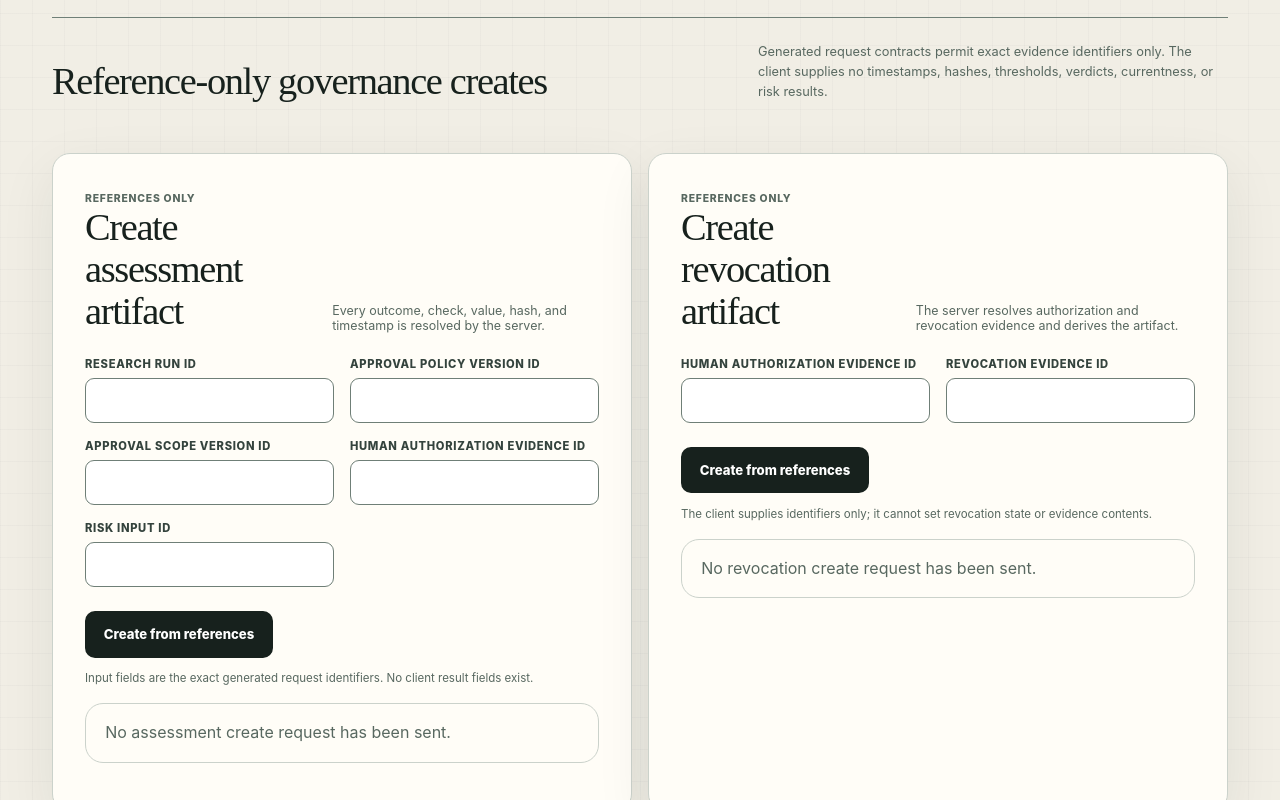
Test: risk and compliance workspace › announces validation revocation-create failures without inventing a result
(page scrolled)
Type "50000000-0000-4000-8000-000000000002" into the field labelled "Human authorization evidence ID" below "Create revocation artifact" at point(806, 400), box top-left (681, 378), bottom-right (930, 423)
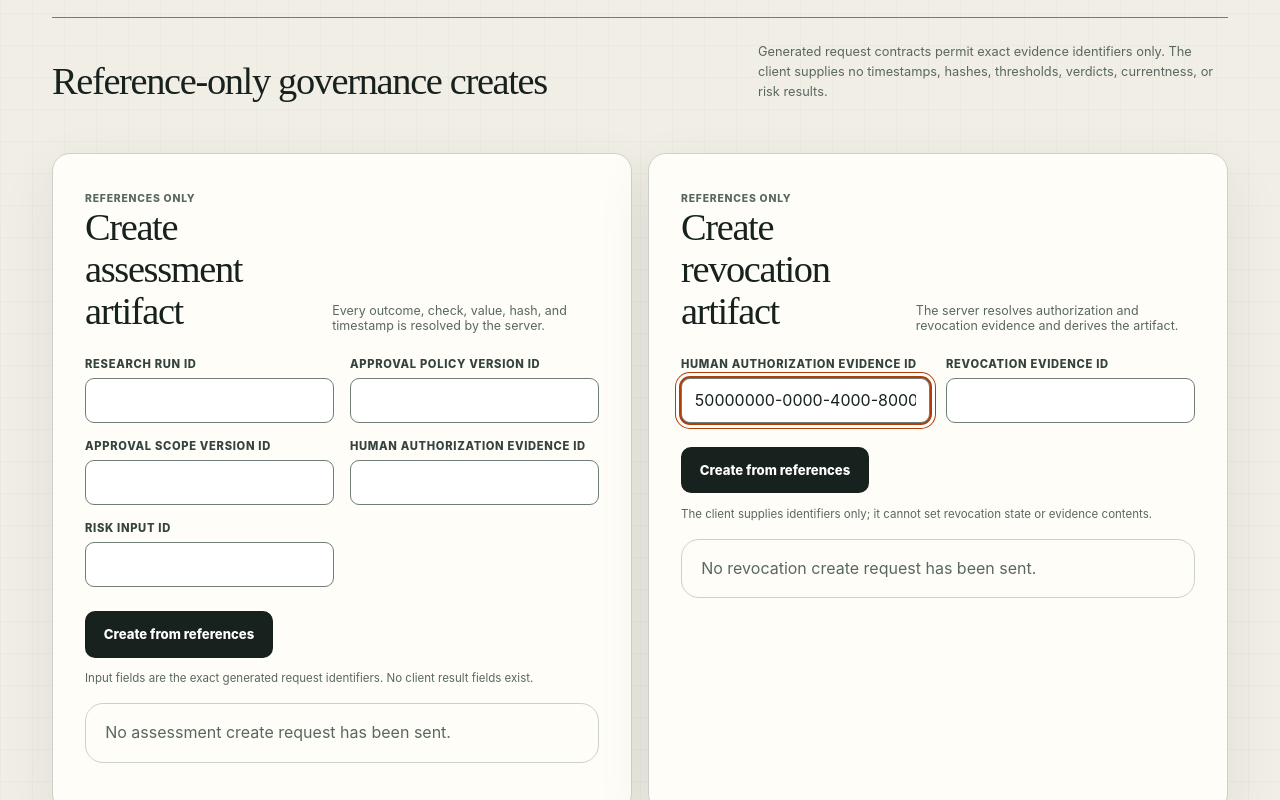
Type "80000000-0000-4000-8000-000000000001" into the field labelled "Revocation evidence ID" at point(1070, 400), box top-left (946, 378), bottom-right (1195, 423)
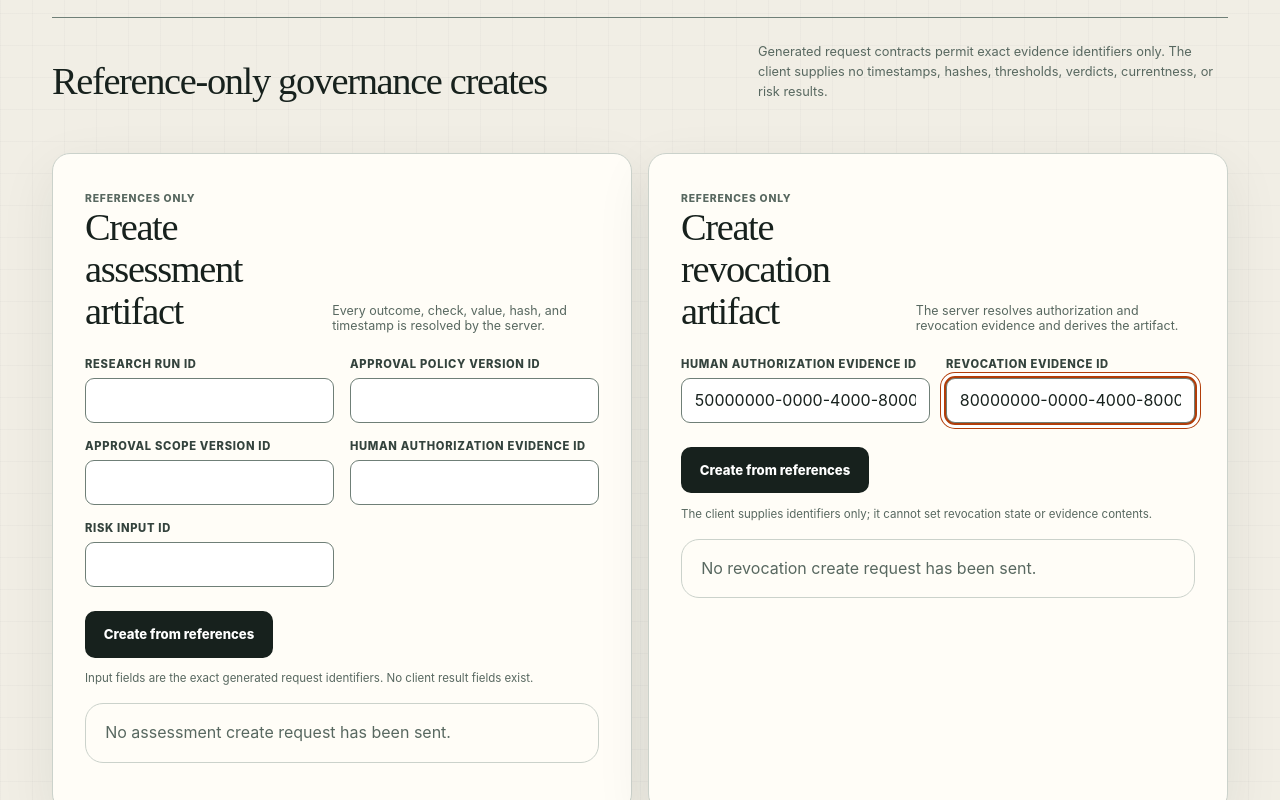
Click the button "Create from references" below "Create revocation artifact" at point(775, 470), box top-left (681, 447), bottom-right (869, 493)
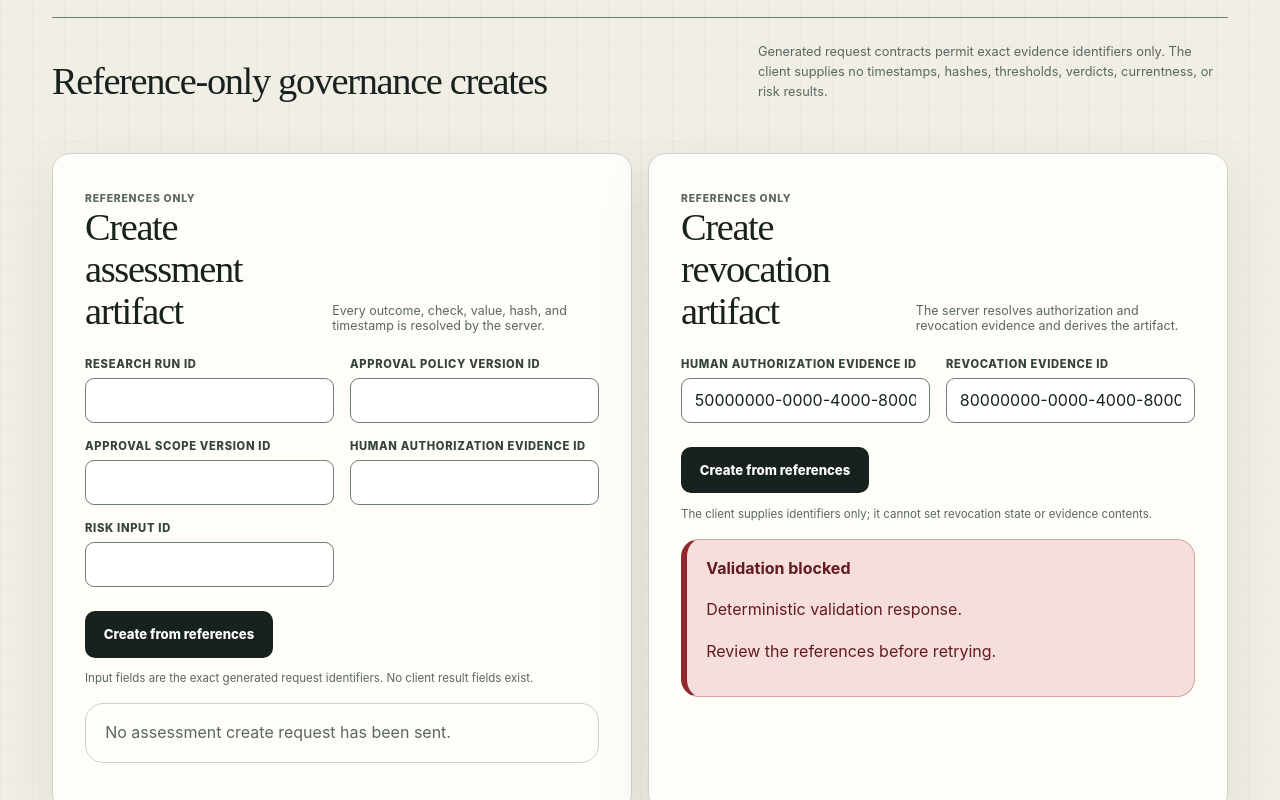
Expected: the message that starts with "Validation blocked" does not show "Artifact SHA-256", top-left (681, 539), bottom-right (1195, 697)
Now the message that starts with "Validation blocked" is shown, box top-left (706, 558), bottom-right (850, 578)
